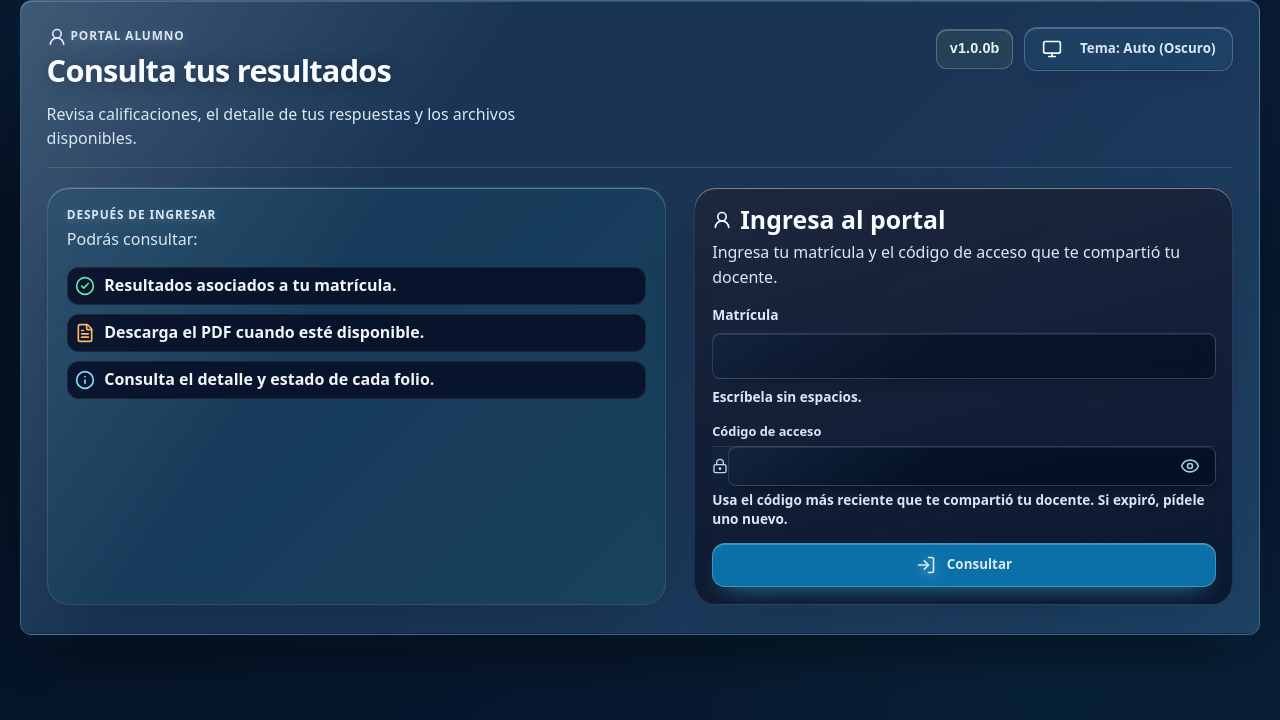
Test: AppAlumno behavior › permite mostrar y ocultar el código sin cambiar su valor ni enviar el formulario
Type "DUMMY-01" into the field labelled "Matrícula Escríbela sin espacios." at (964, 356), box [712, 333, 1216, 379]
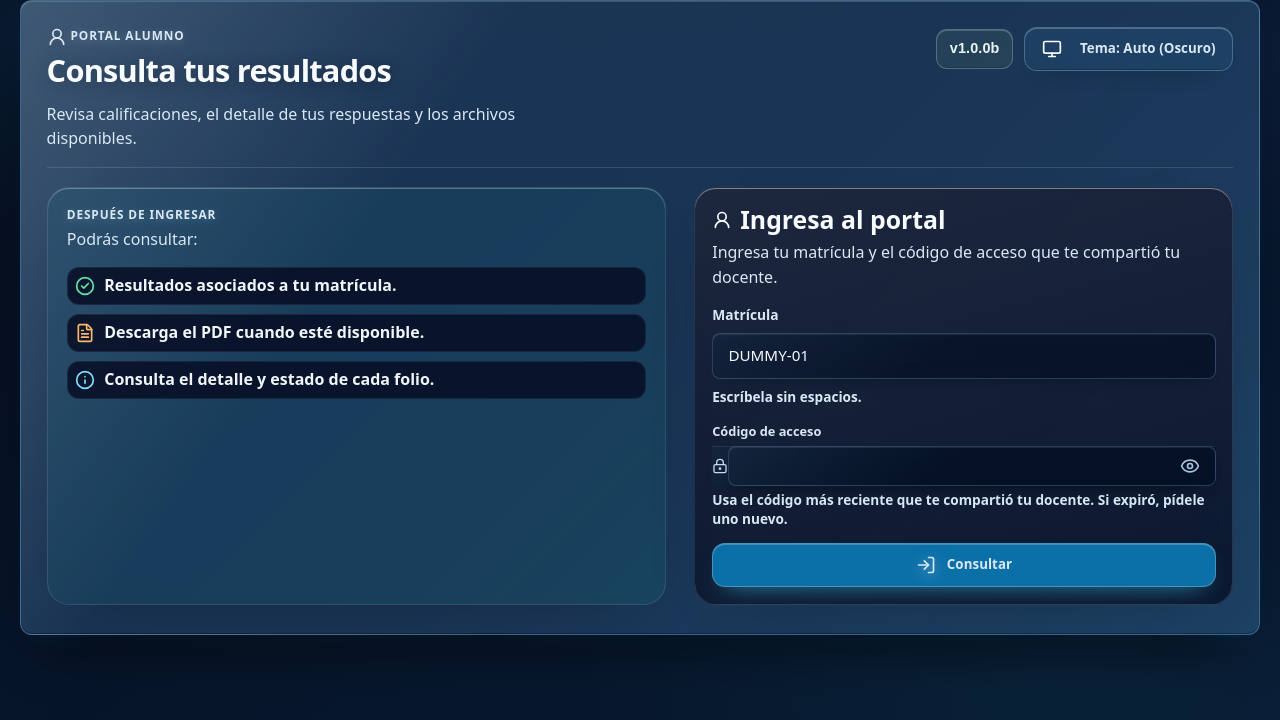
Type "abc123" into the password field labelled "Código de acceso" at (972, 466), box [728, 446, 1216, 486]
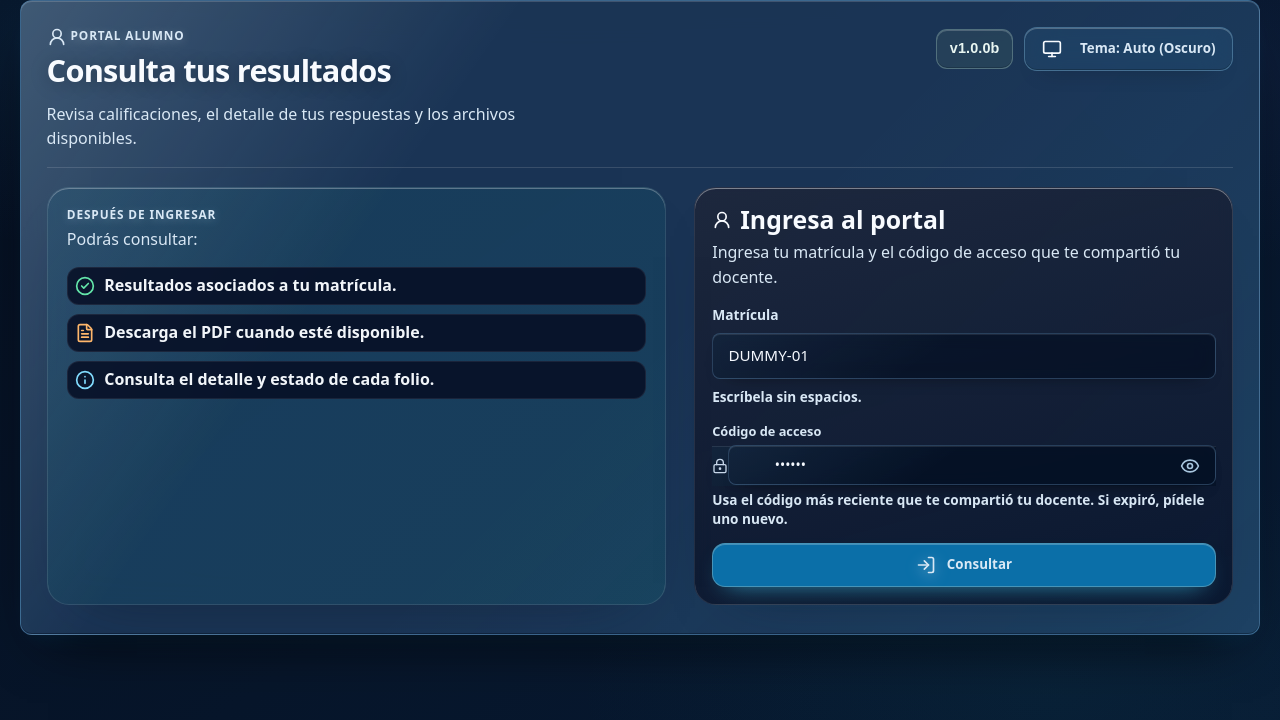
Click the button named "Mostrar código de acceso" at (1190, 466), box [1168, 444, 1212, 488]
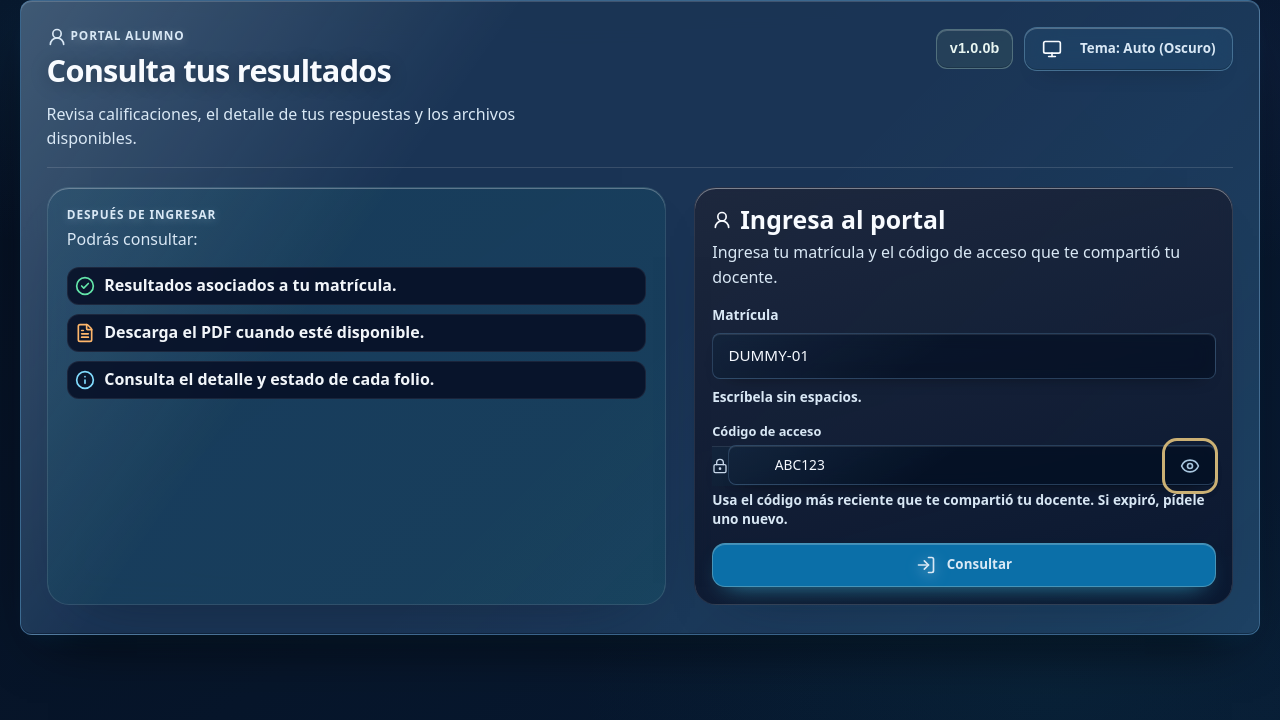
Result: the field labelled "Código de acceso" shows its text at [728, 445, 1216, 485]
Click the button named "Ocultar código de acceso" at (1190, 466), box [1168, 444, 1212, 488]
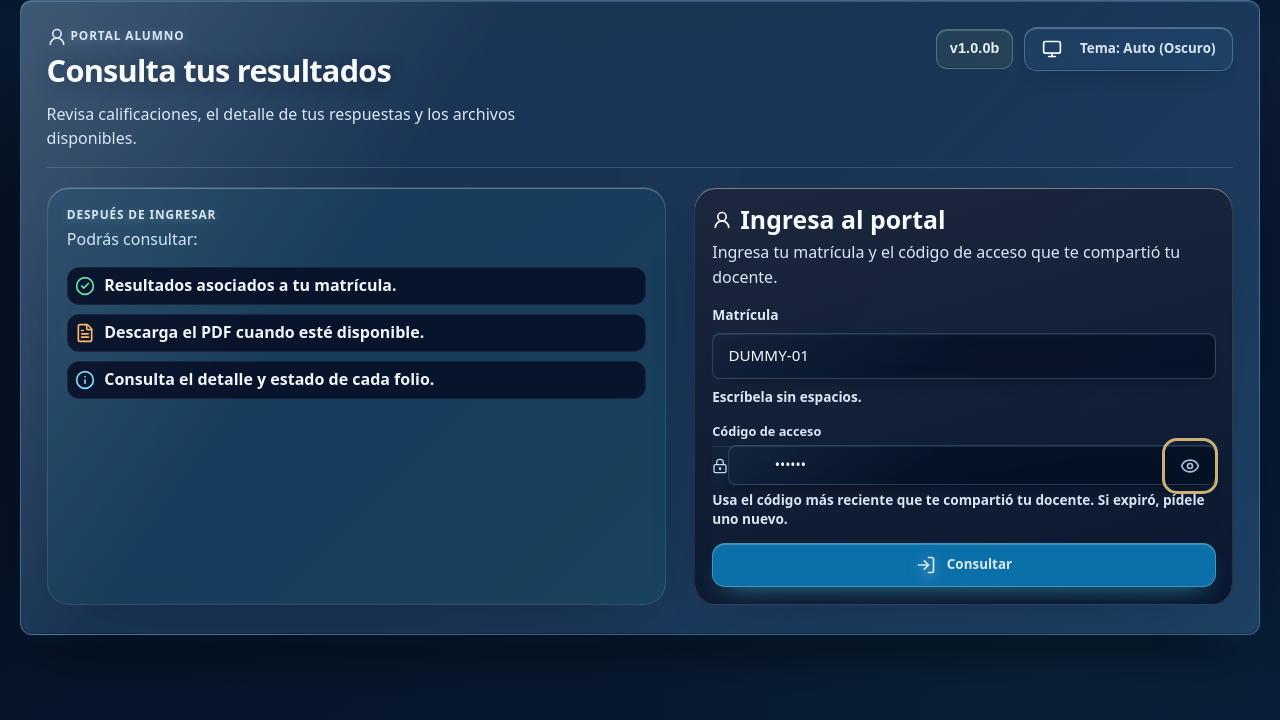
Result: the password field labelled "Código de acceso" hides its text at [728, 445, 1216, 485]
